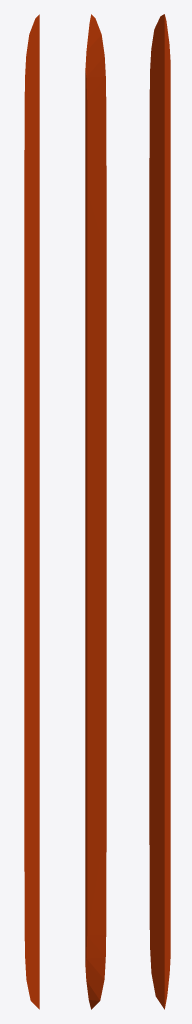
3 views of the same model, side by side, from view 1: azimuth 30°, elevation 25°; view 2: azimuth 150°, elevation 25°; view 3: azimuth 330°, elevation 25° (orthographic).
Bounding box in the file's own units: 0.6273 × 38.88 × 0.4148.
